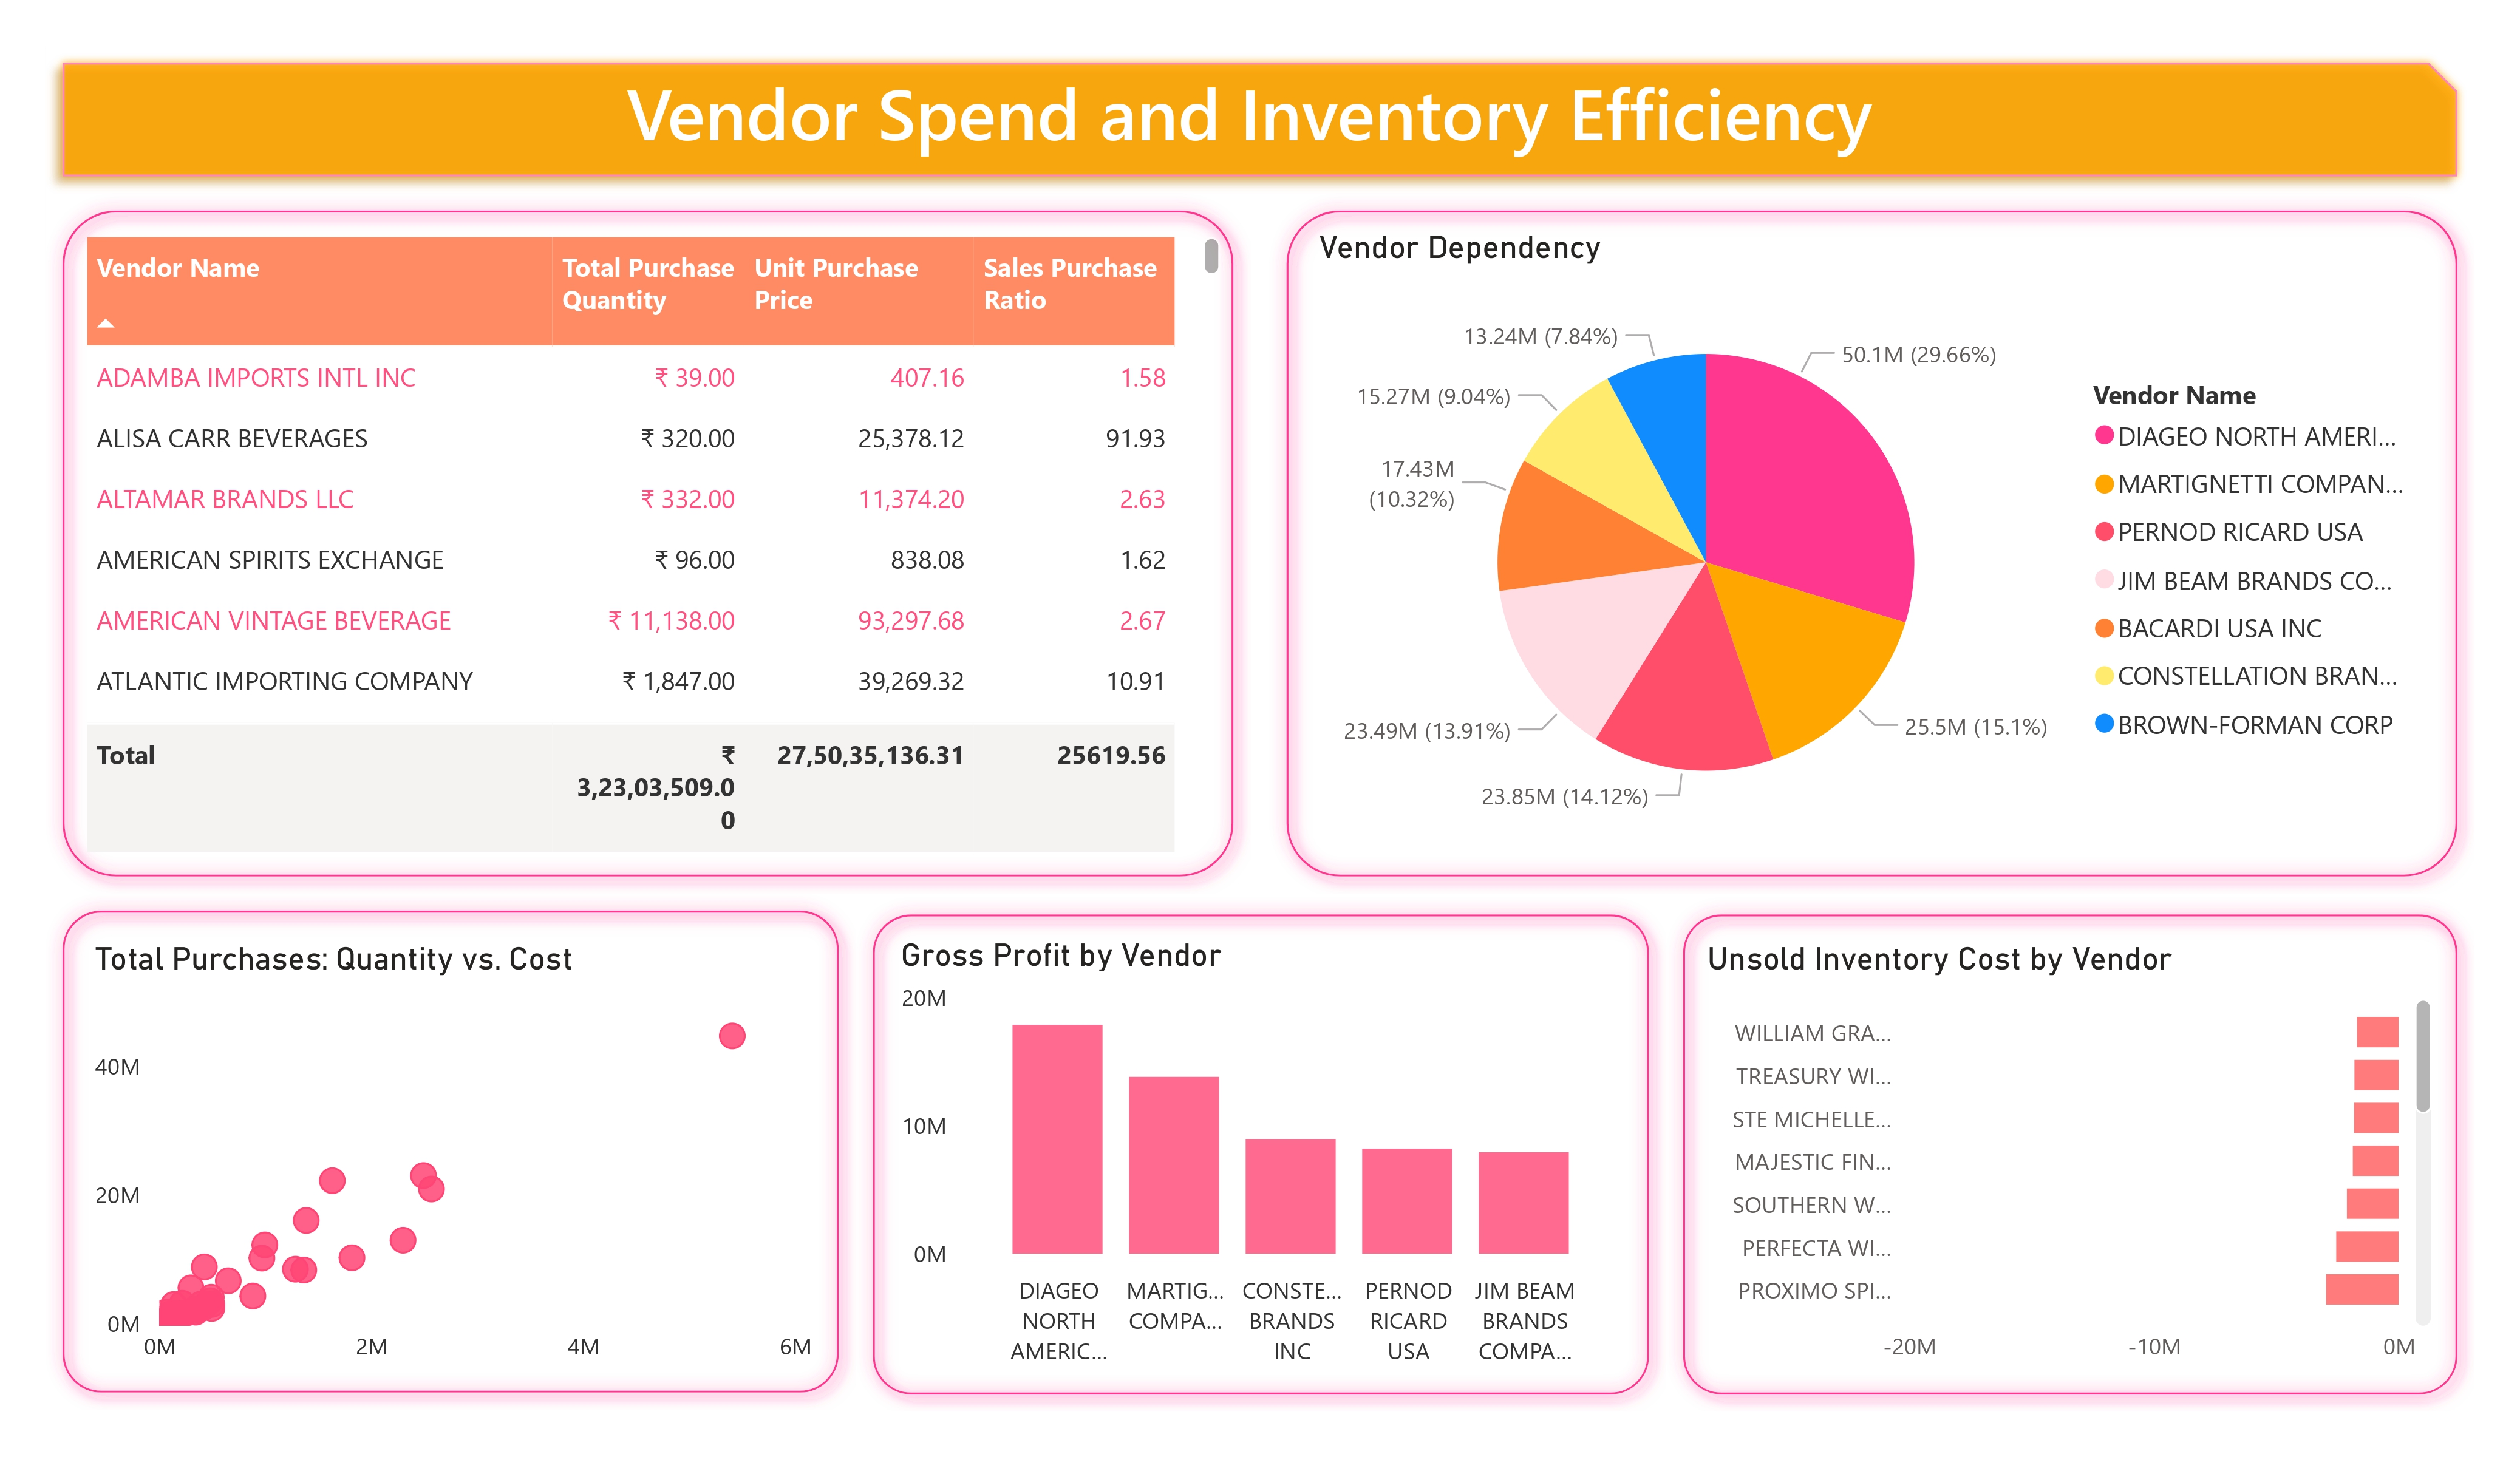

Layout of this report page (visuals, bound fields, positions):
{"tool":"powerbi","page":{"name":"Vendor Spend and Inventory Efficiency","canvas":[1280,720],"ordinal":1},"visuals":[{"type":"shape","box":[0,0,1280.3,78.2],"z":5000},{"type":"textbox","box":[15.1,5.5,1239.1,64.5],"z":6000},{"type":"shape","box":[0,447.3,426.8,271.7],"z":6001},{"type":"shape","box":[426.8,448.7,426.8,271.7],"z":6002},{"type":"shape","box":[853.5,448.7,426.8,271.7],"z":6003},{"type":"clusteredBarChart","title":"Unsold Inventory Cost by Vendor","fields":{"Category":["vendor_sales_summary.VendorName"],"Y":["vendor_sales_summary.InventoryValue"]},"box":[871.4,470.7,391.1,233.3],"z":6004},{"type":"scatterChart","title":"Total Purchases: Quantity vs. Cost","fields":{"X":["vendor_sales_summary.TotalPurchaseQuantity"],"Y":["vendor_sales_summary.UnitPurchasePrice"],"Category":["vendor_sales_summary.VendorName"]},"box":[20.6,470.7,388.3,233.3],"z":6005},{"type":"clusteredColumnChart","title":"Gross Profit by Vendor","fields":{"Category":["vendor_sales_summary.VendorName"],"Y":["vendor_sales_summary.GrossProfit"]},"box":[446,469.3,388.3,234.6],"z":6006},{"type":"shape","box":[0,78.2,635.3,369.1],"z":6007},{"type":"tableEx","fields":{"Values":["vendor_sales_summary.VendorName","vendor_sales_summary.TotalPurchaseQuantity","vendor_sales_summary.UnitPurchasePrice","vendor_sales_summary.SalesToPurchaseRatio"]},"box":[20.6,96.1,598.3,333.4],"z":6008},{"type":"shape","box":[644.9,78.2,635.3,369.1],"z":6009},{"type":"pieChart","title":"Vendor Dependency","fields":{"Category":["vendor_sales_summary.VendorName"],"Y":["vendor_sales_summary.TotalPurchaseDollars"]},"box":[665.5,96.1,594.2,333.4],"z":6010}]}

Visuals, with their boxes on the page's 1280x720 design canvas (x1, y1, x2, y2). These are canvas units, not pixel positions in the 2520x1457 screenshot, which may show the page scaled, cropped or inside an application window:
shape: {"left": 0, "top": 0, "right": 1280, "bottom": 78}
textbox: {"left": 15, "top": 6, "right": 1254, "bottom": 70}
shape: {"left": 0, "top": 447, "right": 427, "bottom": 719}
shape: {"left": 427, "top": 449, "right": 854, "bottom": 720}
shape: {"left": 854, "top": 449, "right": 1280, "bottom": 720}
"Unsold Inventory Cost by Vendor" clusteredBarChart: {"left": 871, "top": 471, "right": 1262, "bottom": 704}
"Total Purchases: Quantity vs. Cost" scatterChart: {"left": 21, "top": 471, "right": 409, "bottom": 704}
"Gross Profit by Vendor" clusteredColumnChart: {"left": 446, "top": 469, "right": 834, "bottom": 704}
shape: {"left": 0, "top": 78, "right": 635, "bottom": 447}
tableEx - vendor_sales_summary.VendorName x vendor_sales_summary.TotalPurchaseQuantity: {"left": 21, "top": 96, "right": 619, "bottom": 430}
shape: {"left": 645, "top": 78, "right": 1280, "bottom": 447}
"Vendor Dependency" pieChart: {"left": 666, "top": 96, "right": 1260, "bottom": 430}
